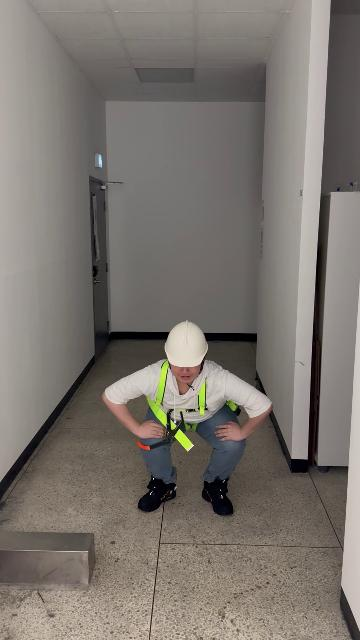helmet_worn: (163, 320, 210, 368)
shoe_worn: (137, 476, 177, 512), (202, 477, 233, 515)
vest_worn: (142, 359, 238, 449)
